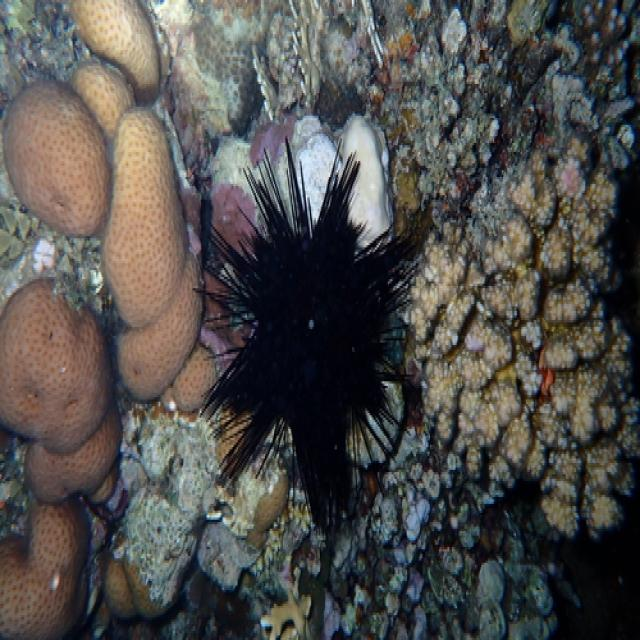Urchin: (195, 150, 417, 529)
